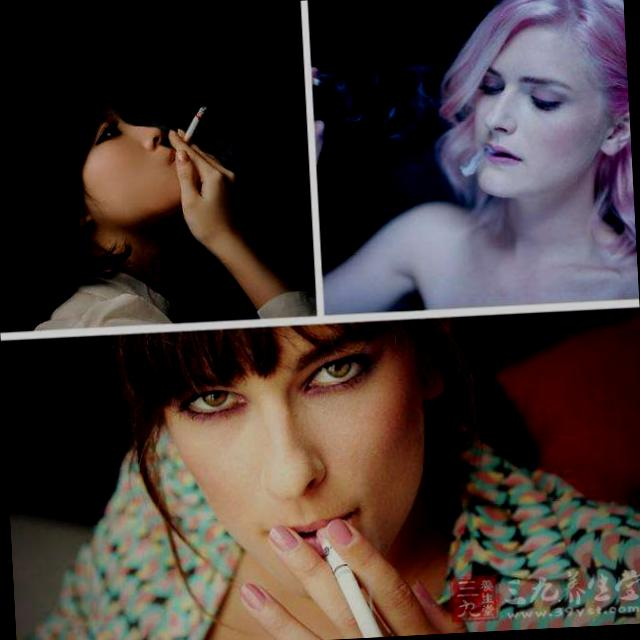smoke: (307, 520, 384, 634), (175, 92, 218, 158)
